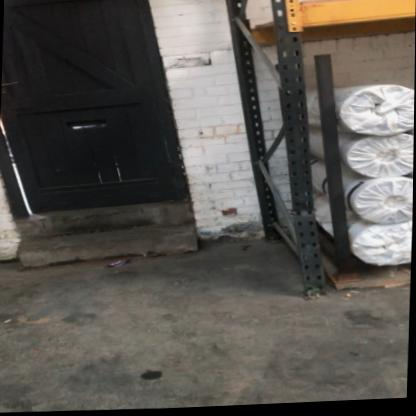vertical_damage: (293, 196, 327, 230)
